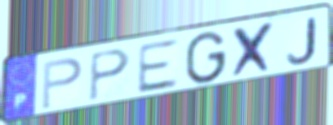E: (135, 37, 181, 96)
G: (183, 30, 229, 87)
J: (285, 15, 318, 65)
P: (39, 56, 84, 112), (88, 47, 132, 104)
X: (230, 19, 279, 80)
